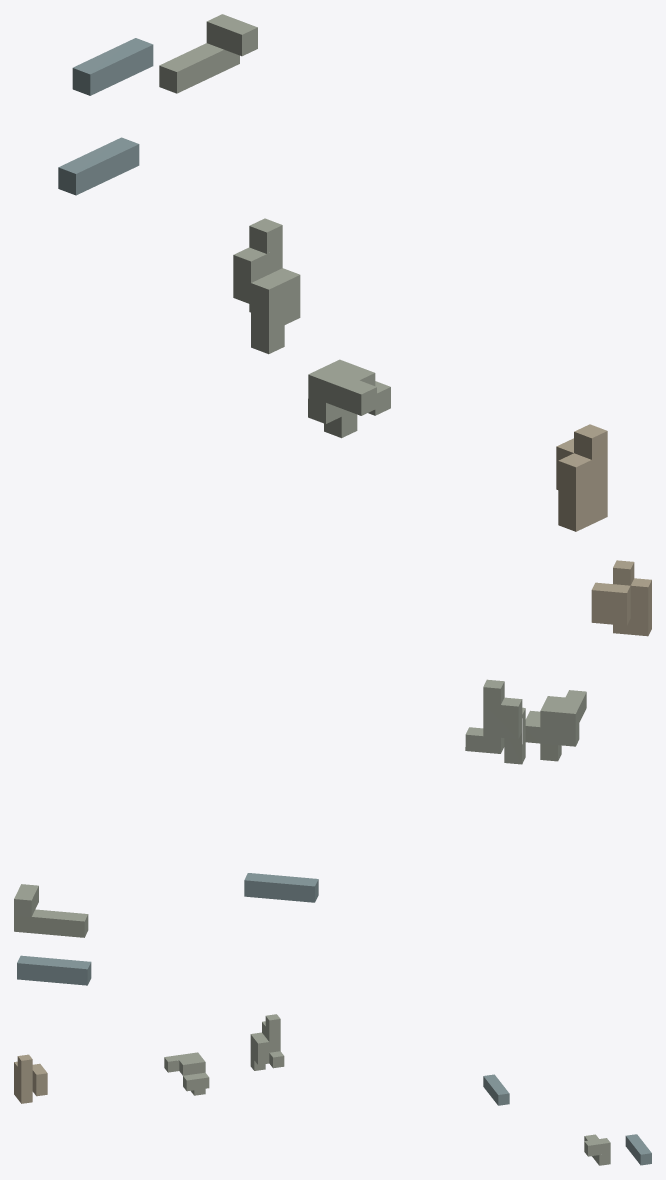
3 renders of one model, top to bottom at view 1: azimuth 30°, elevation 25°; view 2: azimuth 150°, elevation 25°; view 3: azimuth 270°, elevation 25°, orthographic. The views are drawn at different scales.
Visible parts, largest first — view 1: measured-industrial; view 2: measured-industrial; view 3: measured-industrial.
Part boxes in pixels (x1,y1,x2,y2): measured-industrial: (58, 14, 607, 531); measured-industrial: (14, 560, 651, 985); measured-industrial: (14, 1014, 651, 1165).
Size of the model in its own units: 24.78 by 11.99 by 80.61.
